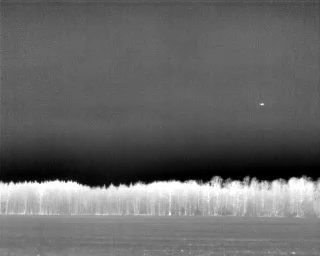DRONE: (257, 99, 268, 110)
